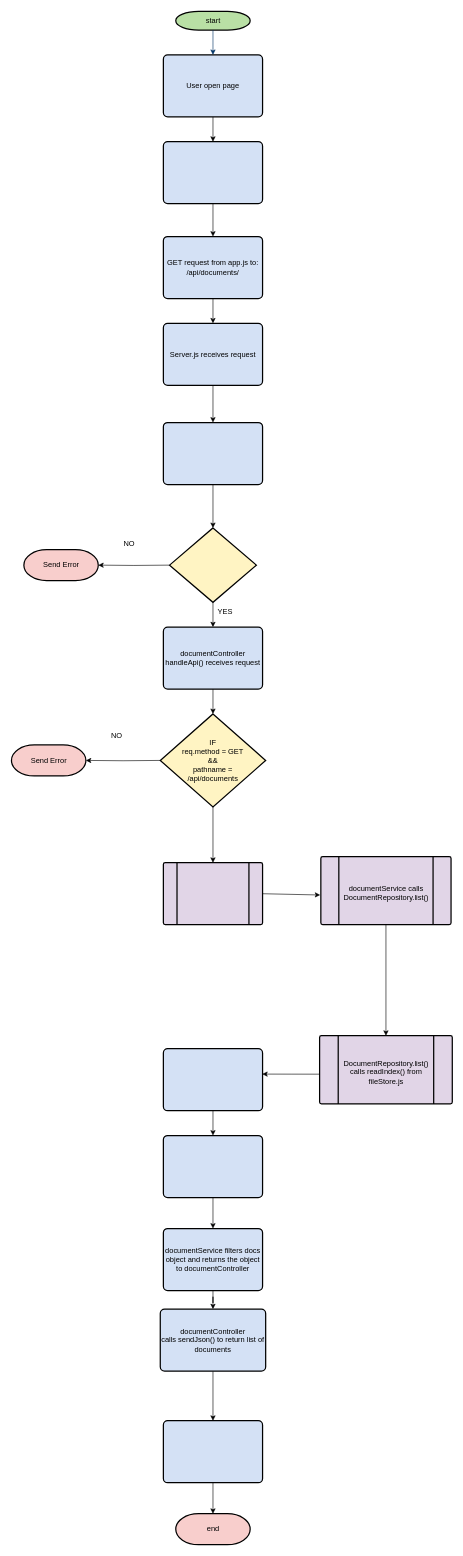
This 463x1556 diagram has some shape labels left out. The box of each missing label's shape, as (x1, y1, x2, y2) in pixels:
DocumentRepositiory returns docs object to documentService: (162, 1135, 263, 1198)
documentService list() called: (162, 862, 263, 925)
IF pathname starts with "/api/: (169, 527, 257, 603)
readIndex returns object with documents list to documentRepository: (162, 1048, 263, 1111)
Router receives request: (162, 422, 263, 485)
sendJson() from response.js receives response and sends it to client app.js: (162, 1420, 263, 1483)
User clicks "Refresh" button: (162, 141, 263, 204)
